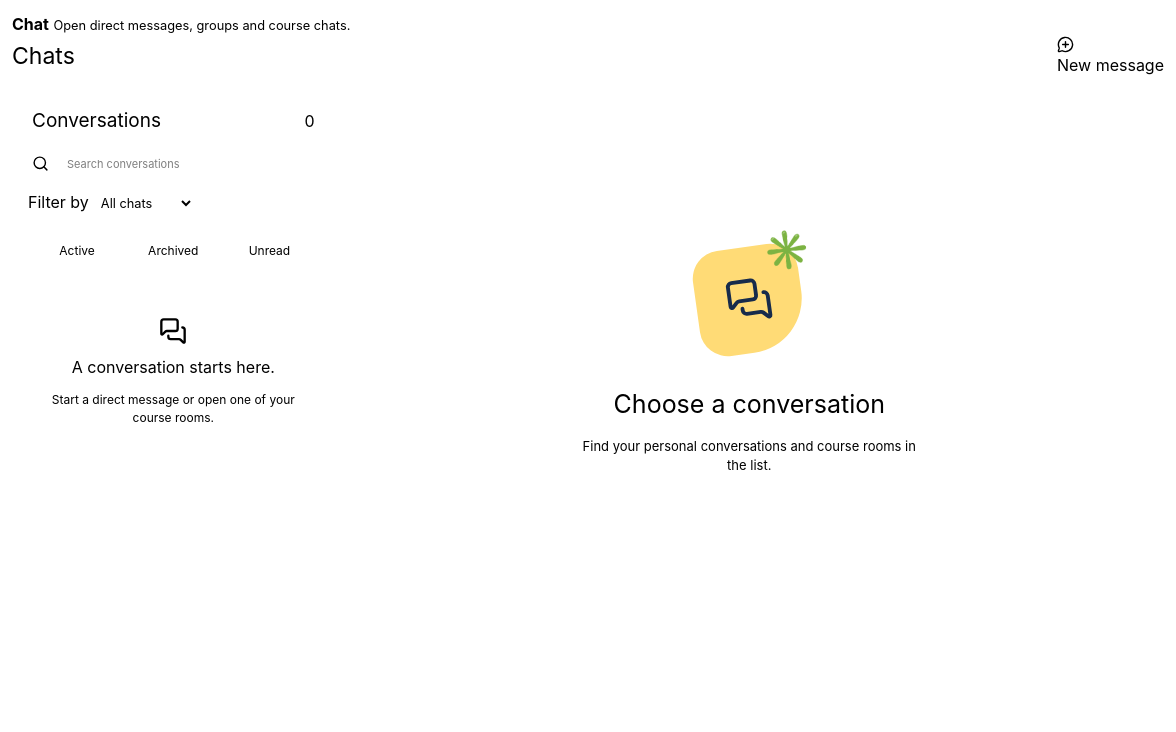
Test: combines unread filters with room categories and remembers them only for the same account
Later steps or results of the test are not shown.
Click the button "Archived" at (173, 251), box [128,231,218,271]
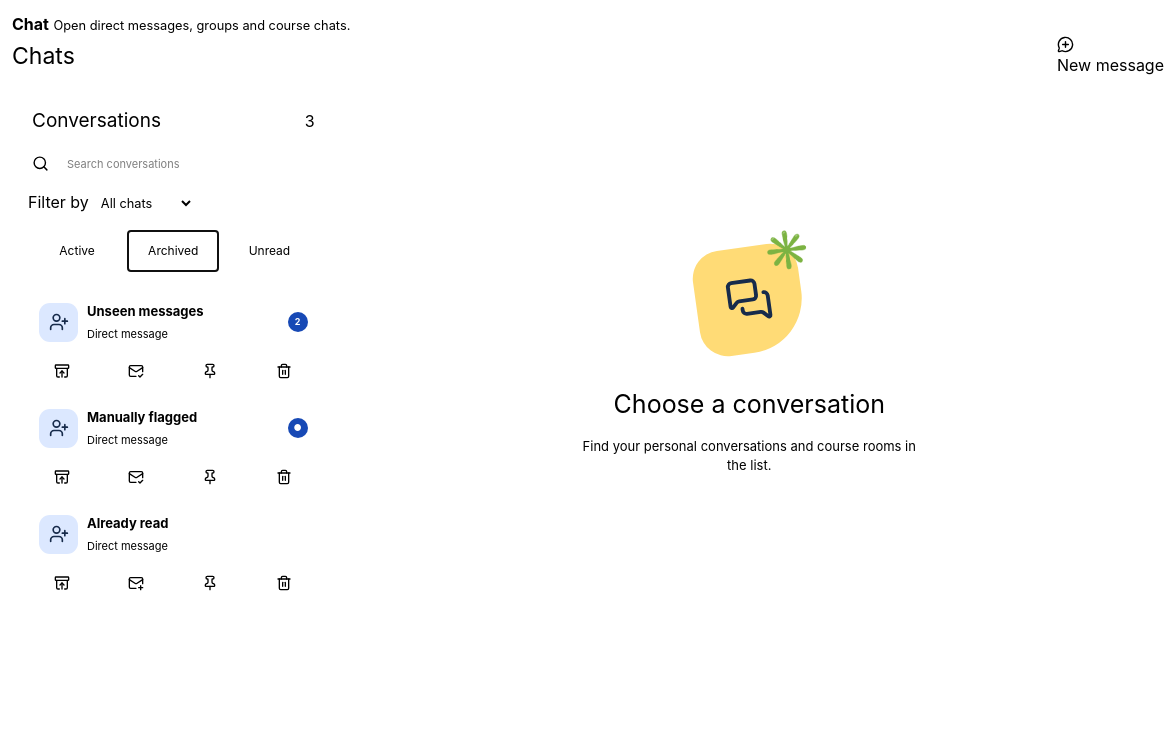
Select "Staff" in the dropdown labelled "Filter by" at (141, 204), box [89,188,194,219]
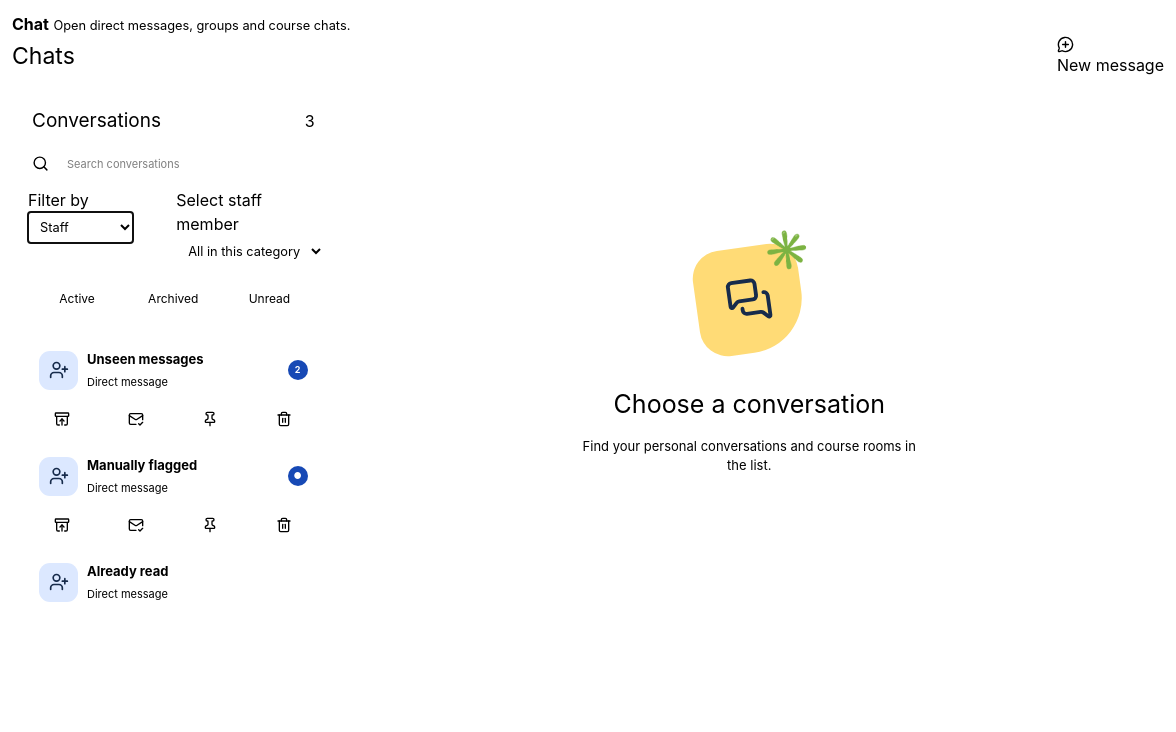
Select "Course team" in the dropdown labelled "Select staff member" at (250, 252), box [176,236,324,267]
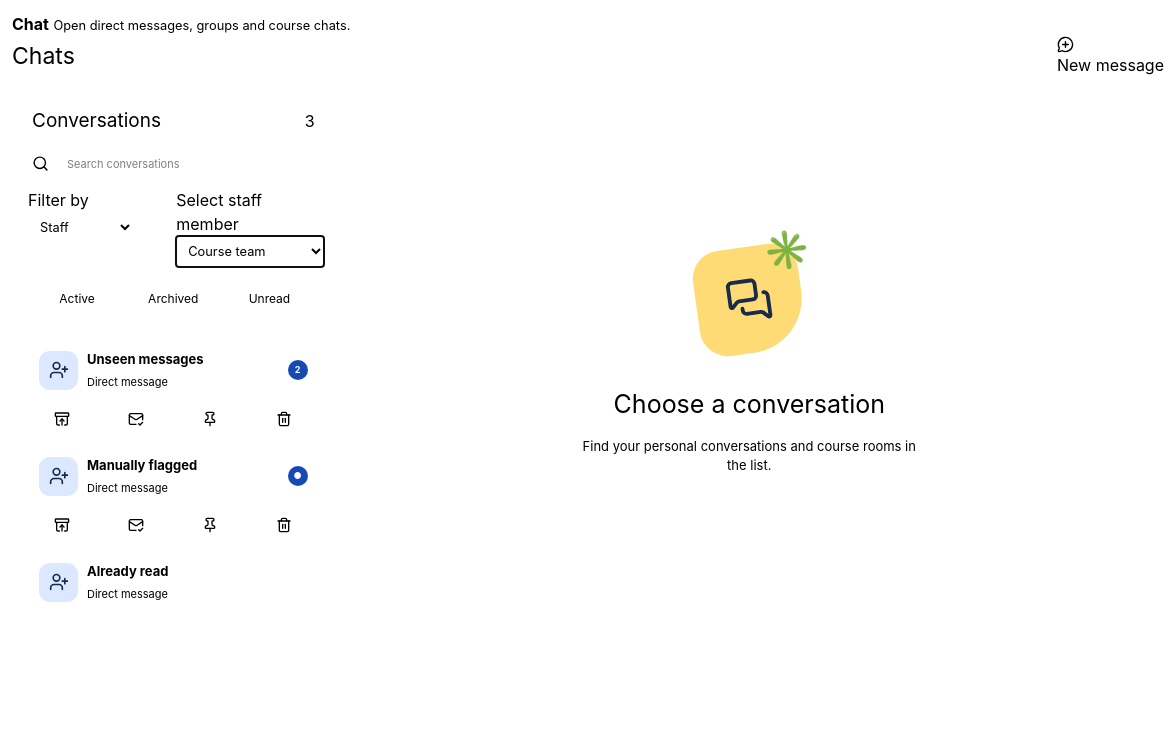
Click the button "Unread" at (270, 299), box [224,279,315,319]
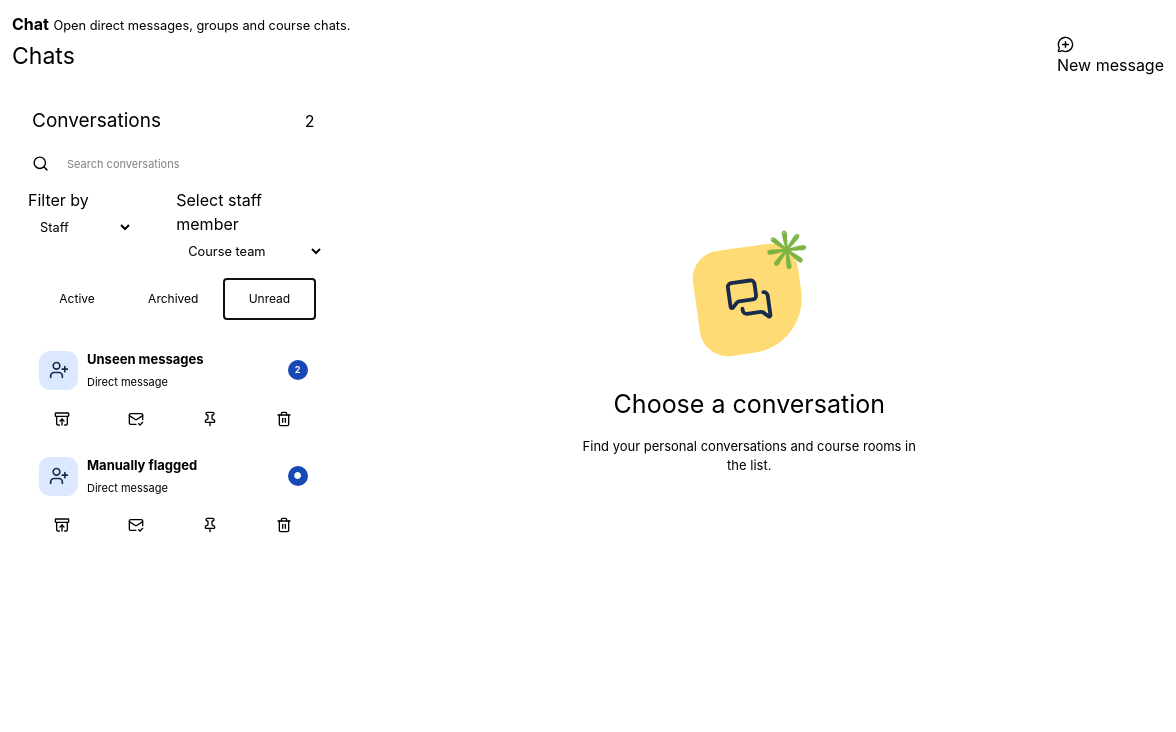
expect the text "Unseen messages" is shown: met, box [87,351,204,367]
expect the text "Manually flagged" is shown: met, box [87,457,197,473]
expect the button "Already read" is gone: met
